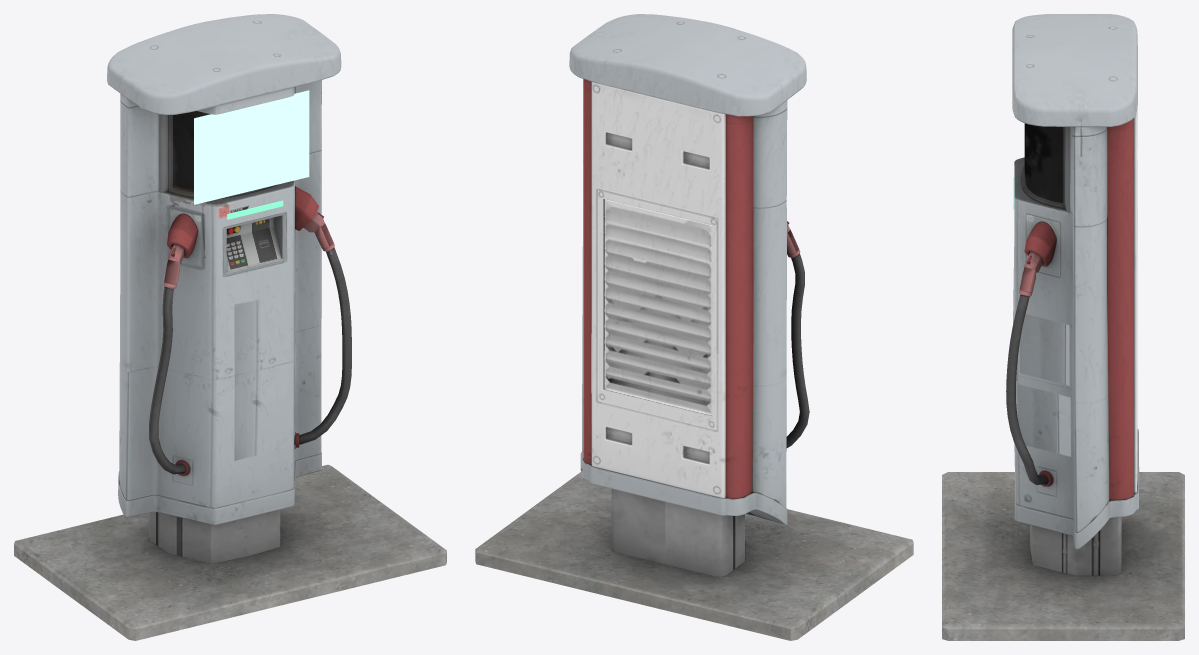
Rendered from ladesaeule_lod0.glb.
3 views of the same model, side by side, from view 1: azimuth 30°, elevation 25°; view 2: azimuth 150°, elevation 25°; view 3: azimuth 270°, elevation 25° (orthographic).
Visible parts, largest first — view 1: Frontpanel, Sockel, Gehaeuse, ladesaeule_display, Korpus, Kabel, Stecker; view 2: Korpus, Sockel, Gehaeuse, Frontpanel, Kabel; view 3: Sockel, Frontpanel, Gehaeuse, Korpus, Kabel, Stecker.
Boxes of the visible parts, x1,y1,x2,y2 form: Frontpanel: (119,80,321,508); Sockel: (14,213,446,640); Gehaeuse: (107,14,341,524); ladesaeule_display: (194,90,309,204); Korpus: (148,111,334,563); Kabel: (149,254,351,474); Stecker: (167,186,318,475); Korpus: (591,82,800,576); Sockel: (475,79,913,640); Gehaeuse: (569,14,806,525); Frontpanel: (582,79,787,508); Kabel: (786,253,809,447); Sockel: (942,118,1184,640); Frontpanel: (1013,127,1109,532); Gehaeuse: (1012,14,1139,549); Korpus: (1019,108,1137,575); Kabel: (1006,301,1048,484); Stecker: (1024,221,1056,486).
Bounding box in the file's own units: 1.14 × 1.75 × 0.75.
Materials: 3 (1 with a texture image).
